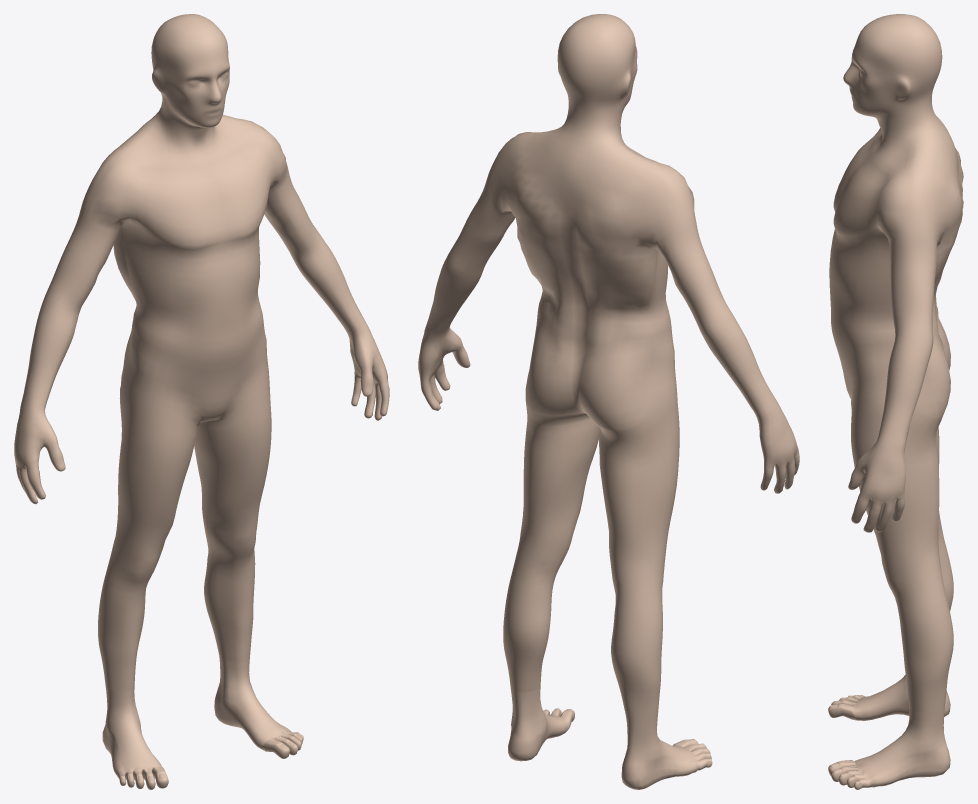
Rendered from Human1.fbx.
3 views of the same model, side by side, from view 1: azimuth 30°, elevation 25°; view 2: azimuth 150°, elevation 25°; view 3: azimuth 270°, elevation 25° (orthographic).
Visible parts, largest first — view 1: Human1; view 2: Human1; view 3: Human1.
Boxes of the visible parts, left/top/right/bottom form: Human1: left=14, top=14, right=389, bottom=789; Human1: left=418, top=14, right=799, bottom=789; Human1: left=828, top=14, right=963, bottom=789.
Size of the model in its own units: 95.48 by 183 by 30.65.
